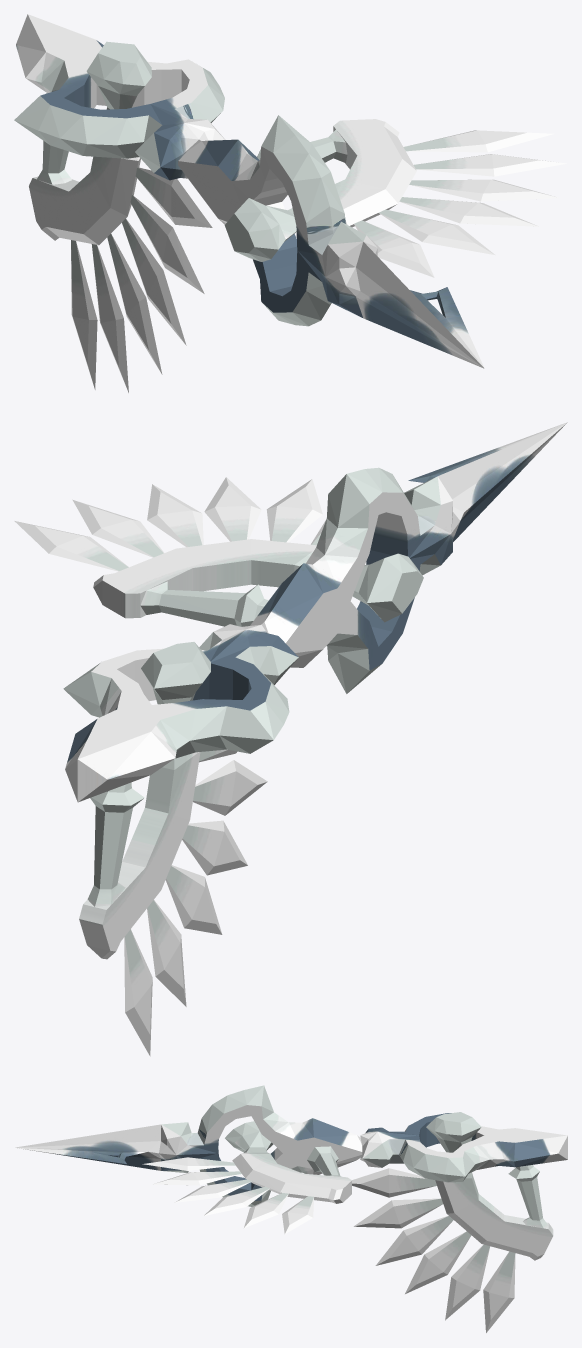
The model's file is standalone_s.obj.
3 views of the same model, one above another, from view 1: azimuth 30°, elevation 25°; view 2: azimuth 150°, elevation 25°; view 3: azimuth 270°, elevation 25° (orthographic). The views are drawn at different scales.
Bounding box in the file's own units: 132 × 132 × 268.
